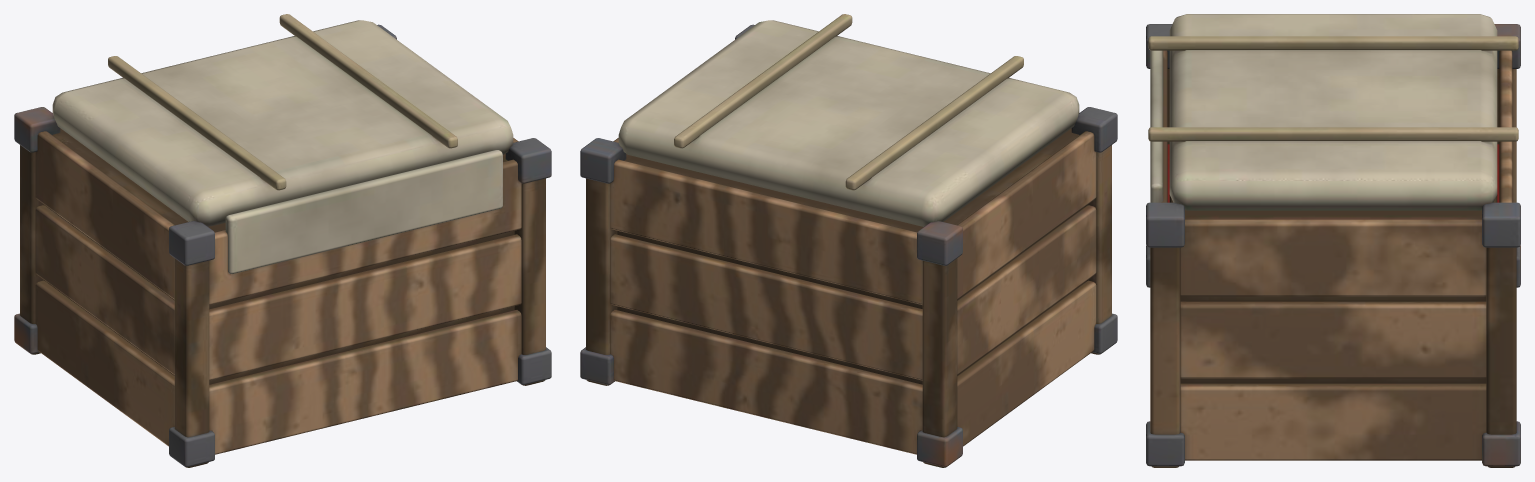
Rendered from supply_crate.glb.
The picture shows the model from 3 angles, left to right: view 1: azimuth 30°, elevation 25°; view 2: azimuth 150°, elevation 25°; view 3: azimuth 270°, elevation 25°; orthographic projection. The views are drawn at different scales.
Visible parts, largest first — view 1: SupplyCrate; view 2: SupplyCrate; view 3: SupplyCrate.
Part boxes in pixels (x1,y1,x2,y2): SupplyCrate: [14, 14, 551, 467]; SupplyCrate: [580, 14, 1117, 467]; SupplyCrate: [1146, 14, 1520, 467].
Bounding box in the file's own units: 1.07 × 0.745 × 0.87.
6 materials, 6 textured.
